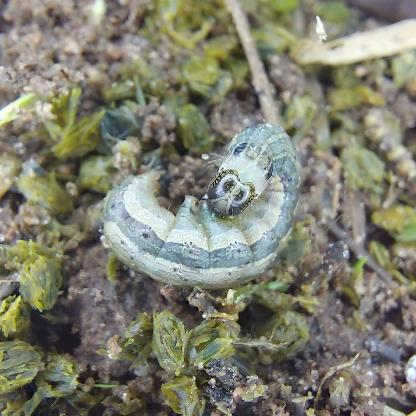Fall Armyworm Larvae: (96, 118, 308, 294)
